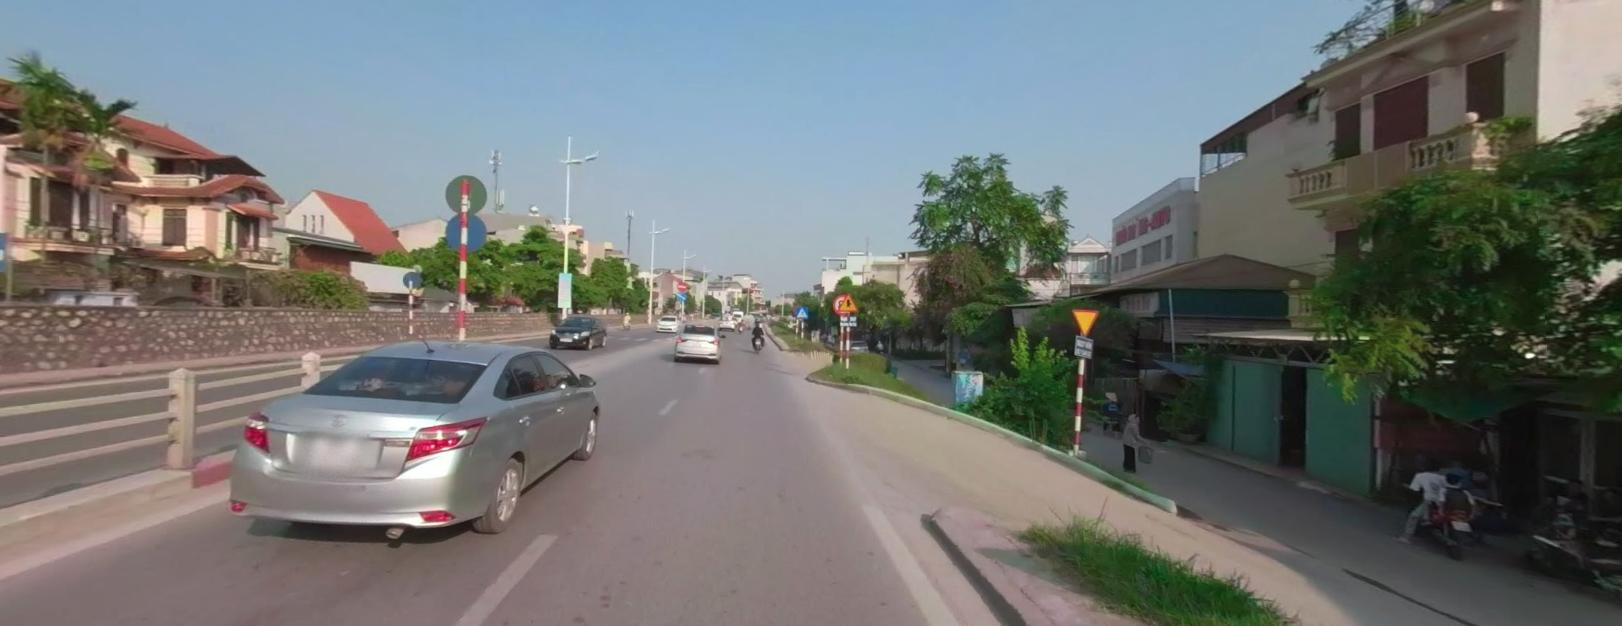Cam con lai: (831, 291, 849, 312)
Cam dung va do: (792, 302, 802, 314)
Cam nguoc chieu: (677, 281, 686, 290)
Hieu lenh: (675, 290, 686, 299)
Nguy hiem: (1070, 304, 1100, 333), (839, 291, 857, 311)
